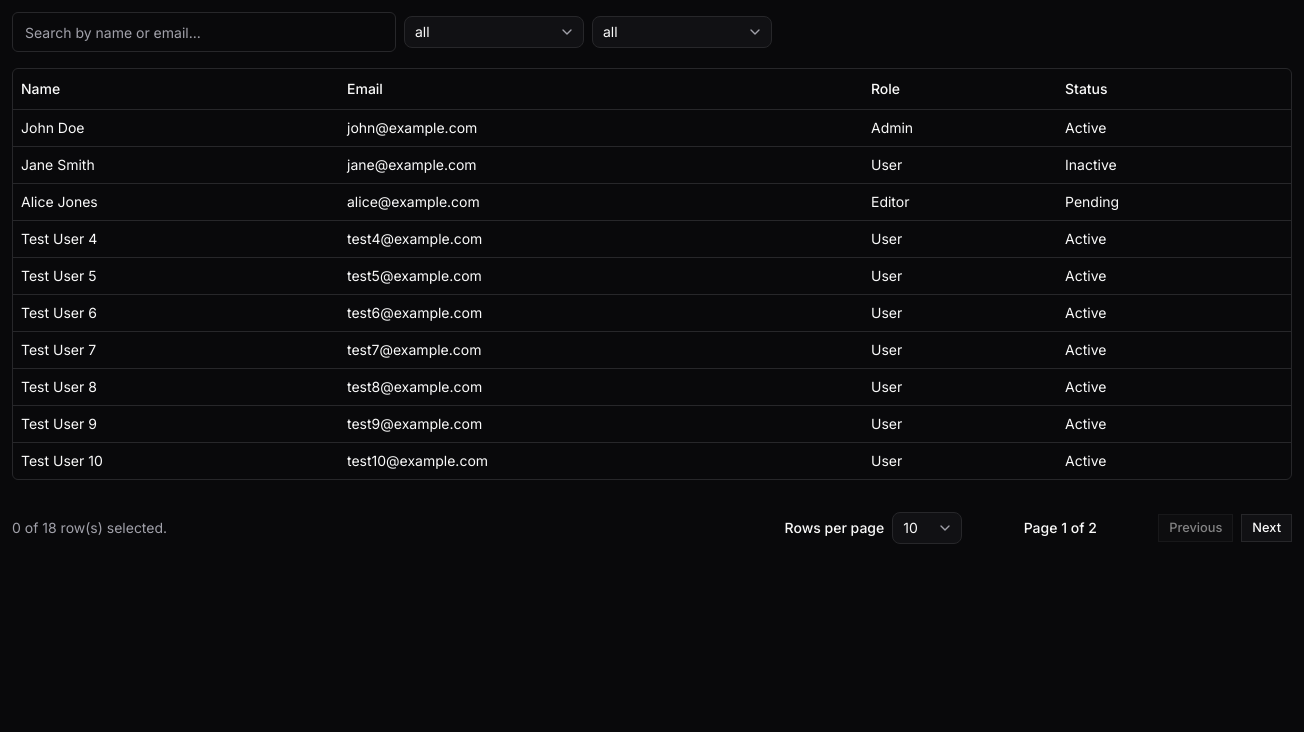
Dashboard Widgets › UsersTable › handles pagination previous page
Click the button "Next".
click(1267, 528)  # box [1241,514,1292,542]
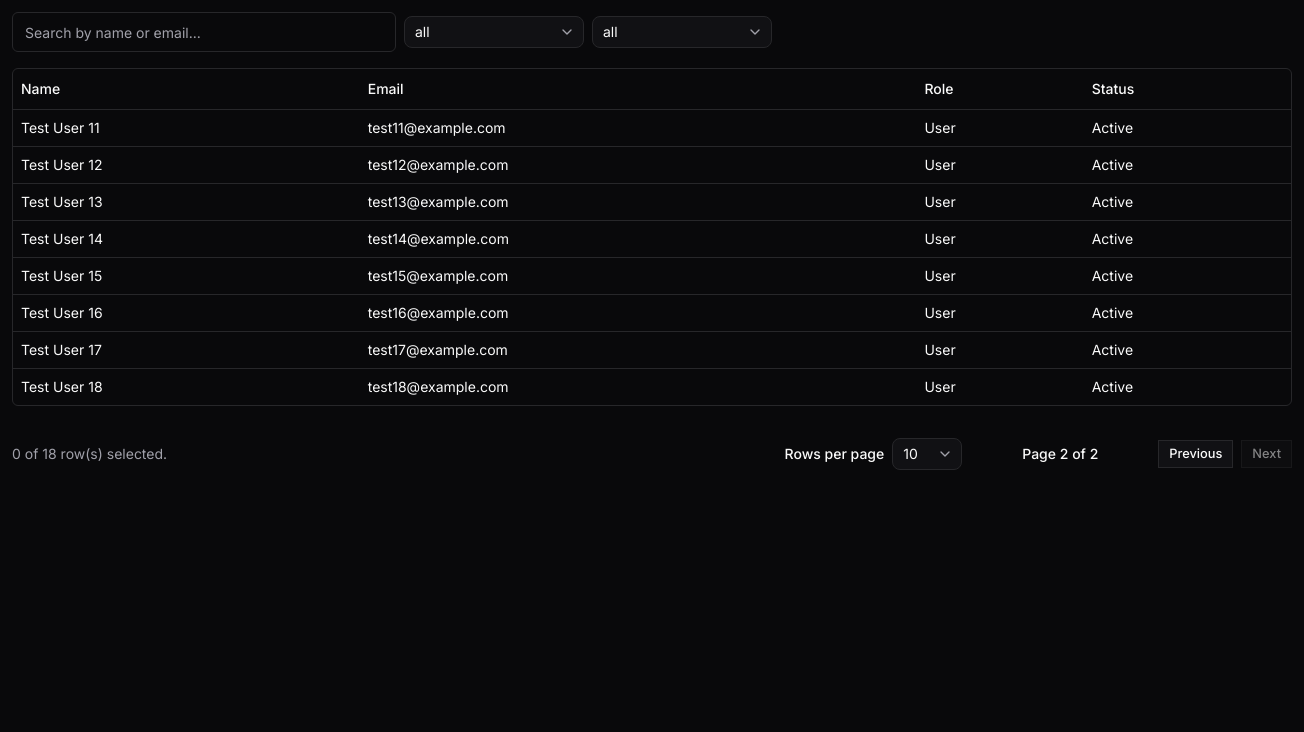
Expected: the text "Test User 18" is shown, [13,368,360,404]
Click the button "Previous".
click(1196, 454)  # box [1158,440,1233,468]
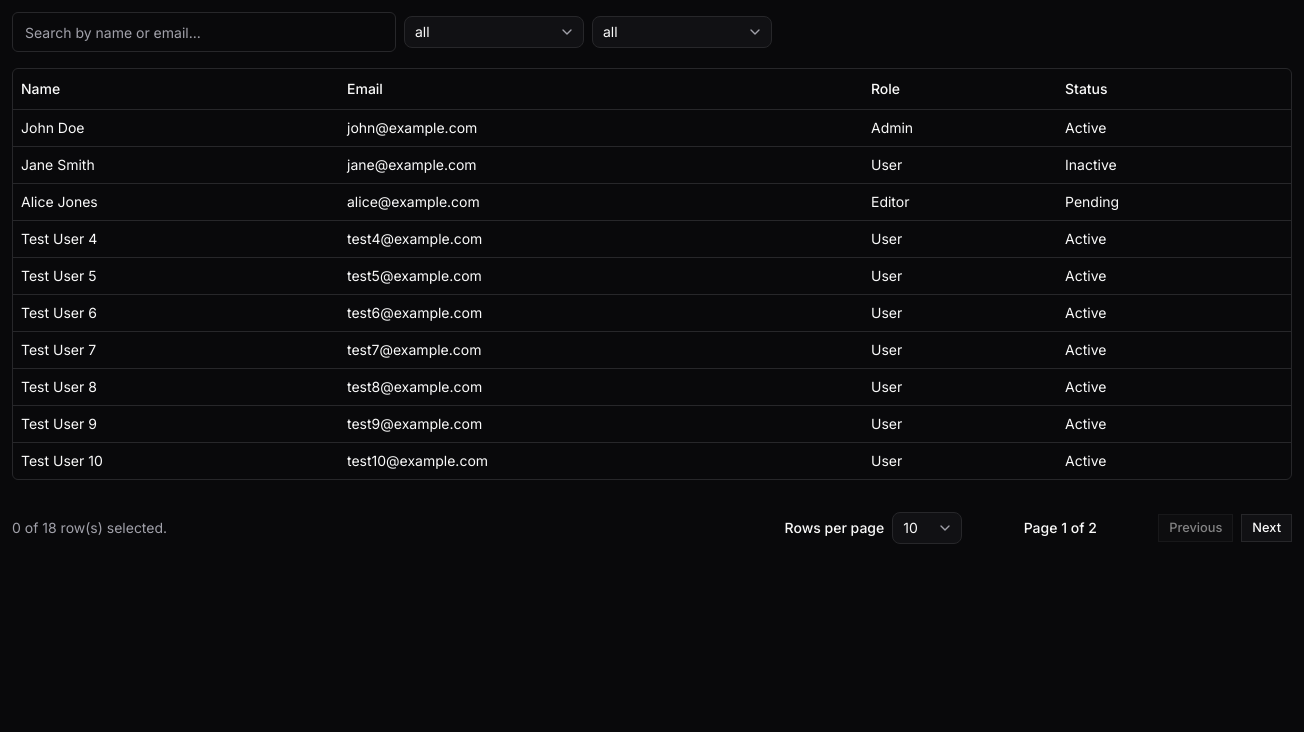
Expected: the text "John Doe" is shown, [13,109,339,146]
